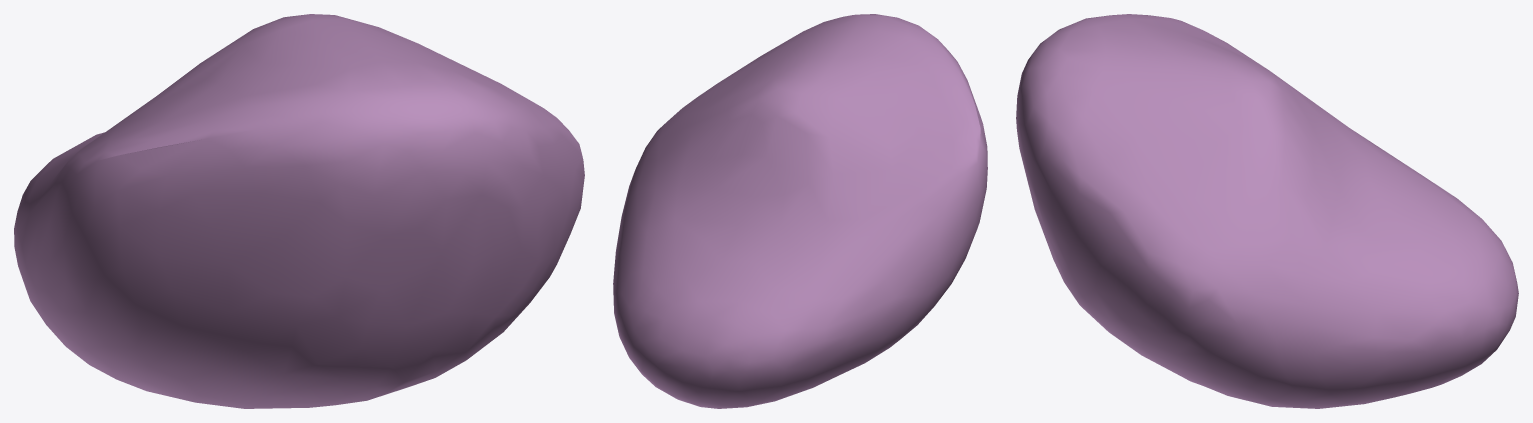
3 renders of one model, left to right at view 1: azimuth 30°, elevation 25°; view 2: azimuth 150°, elevation 25°; view 3: azimuth 270°, elevation 25°, orthographic. The views are drawn at different scales.
Parts seen in each view (by area): view 1: 蚓小结; view 2: 蚓小结; view 3: 蚓小结.
Part boxes in pixels (x1,y1,x2,y2): 蚓小结: (14,14,584,408); 蚓小结: (613,14,987,408); 蚓小结: (1016,14,1518,408).
Bounding box in the file's own units: 0.0155 × 0.0126 × 0.0174.
